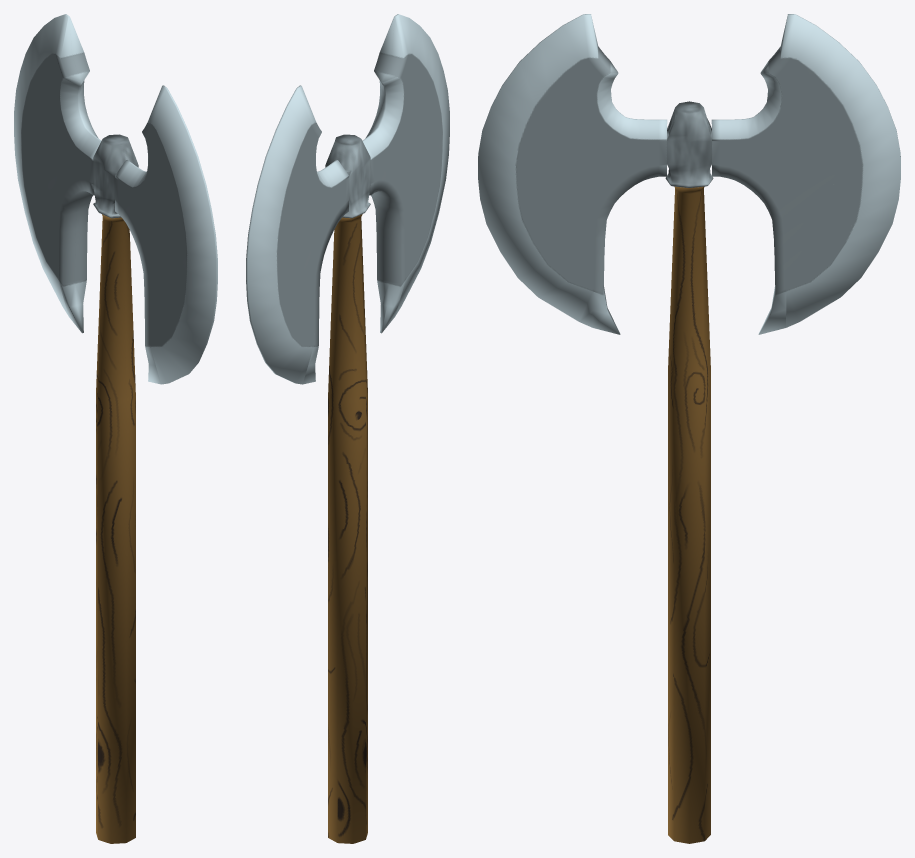
Rendered from axeV1.fbx.
3 views of the same model, side by side, from view 1: azimuth 30°, elevation 25°; view 2: azimuth 150°, elevation 25°; view 3: azimuth 270°, elevation 25° (orthographic). The views are drawn at different scales.
Visible parts, largest first — view 1: axeV1; view 2: axeV1; view 3: axeV1.
Boxes of the visible parts, <box> form: axeV1: <box>14,14,217,843</box>; axeV1: <box>246,14,449,843</box>; axeV1: <box>478,14,900,843</box>.
Size of the model in its own units: 2.87 by 60.07 by 28.06.
